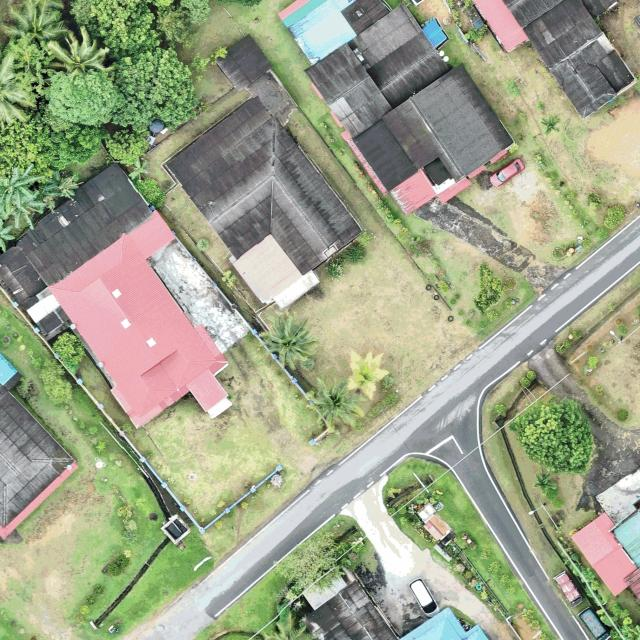Tree: (68, 0, 210, 60), (117, 44, 202, 132), (510, 395, 596, 475), (44, 70, 126, 134), (272, 530, 346, 597), (0, 0, 65, 60), (46, 26, 111, 84), (260, 312, 320, 371), (307, 382, 368, 440), (0, 162, 46, 208), (0, 190, 46, 230), (472, 260, 504, 316), (104, 128, 151, 166), (264, 610, 318, 640), (51, 331, 86, 368), (42, 169, 84, 198), (532, 472, 556, 497), (0, 219, 17, 253), (603, 204, 626, 228)
